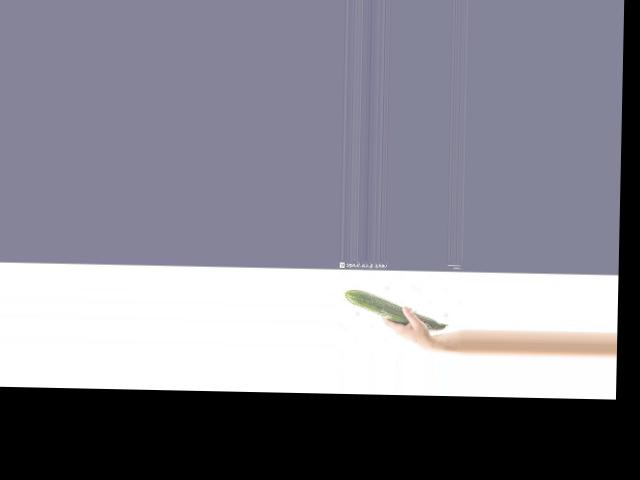cucumber: (344, 289, 449, 331)
